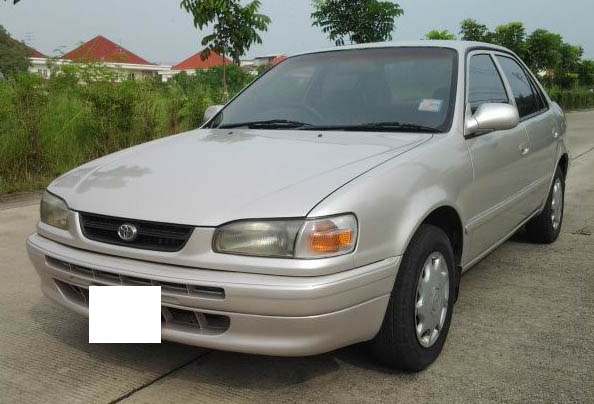sedan: (25, 38, 569, 370)
